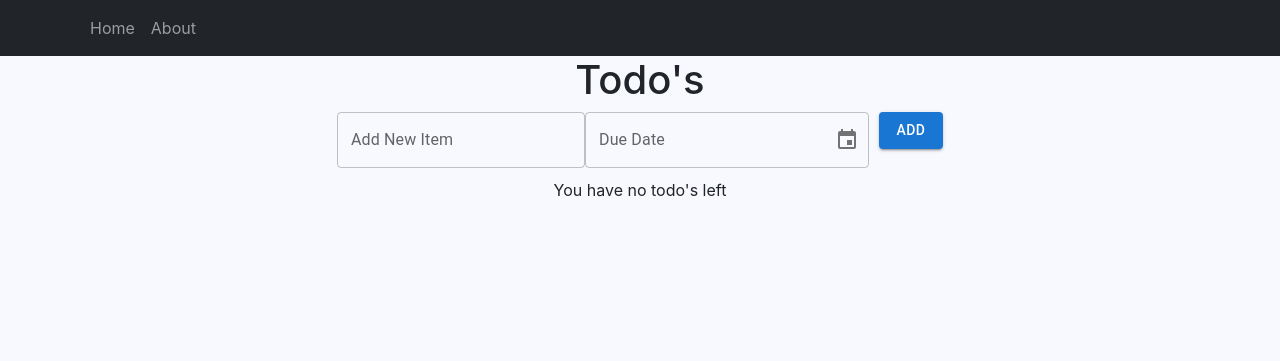
Test: test that App component renders different colors for past due events
The width and height of the screenshot is (1280, 361).
# create normal task
Type "History Test" into the field labelled "Add New Item". click: (461, 140)
box: [337,112,585,168]
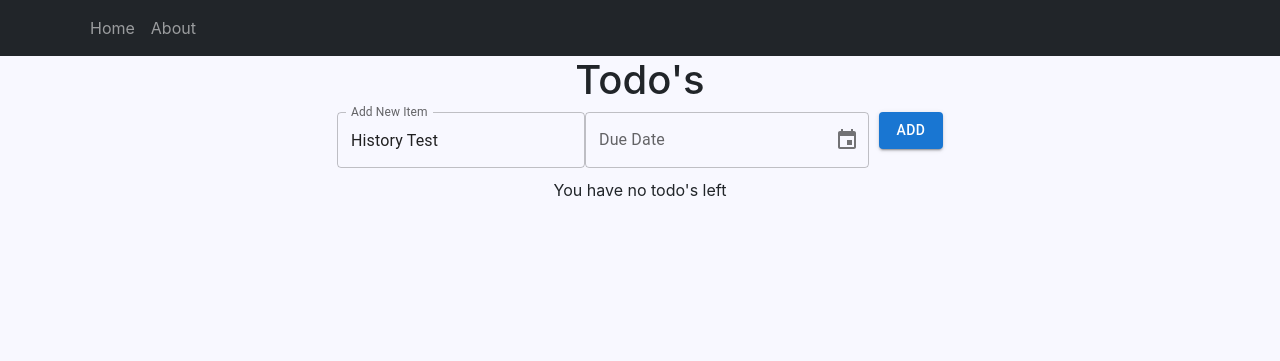
Type "06/30/2025" into the field with placeholder "mm/dd/yyyy". click: (702, 140)
box: [585,112,819,168]
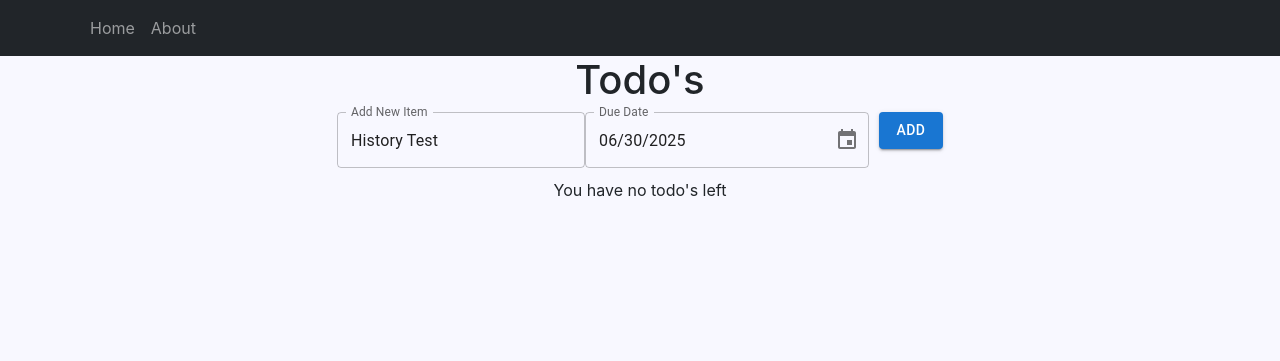
Click the button "Add". click: (911, 130)
box: [879,112,943,148]
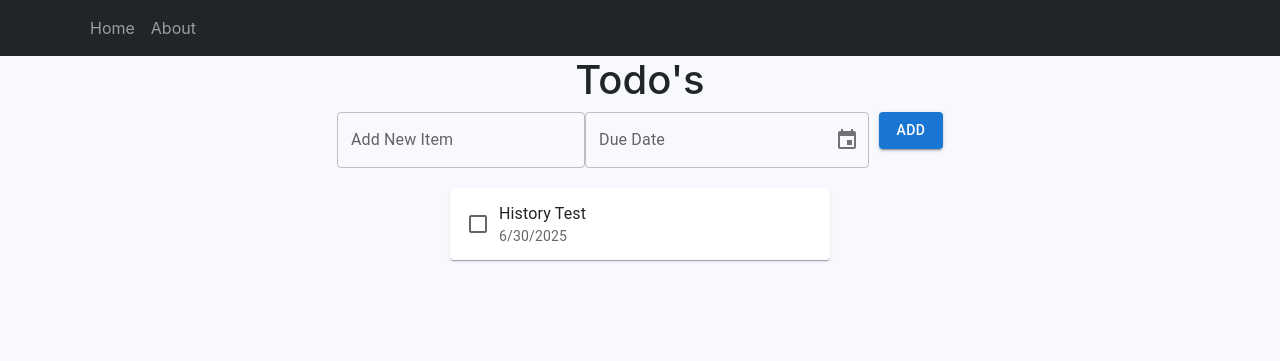
# create overdue task
Type "Science Test" into the field labelled "Add New Item". click: (461, 140)
box: [337,112,585,168]
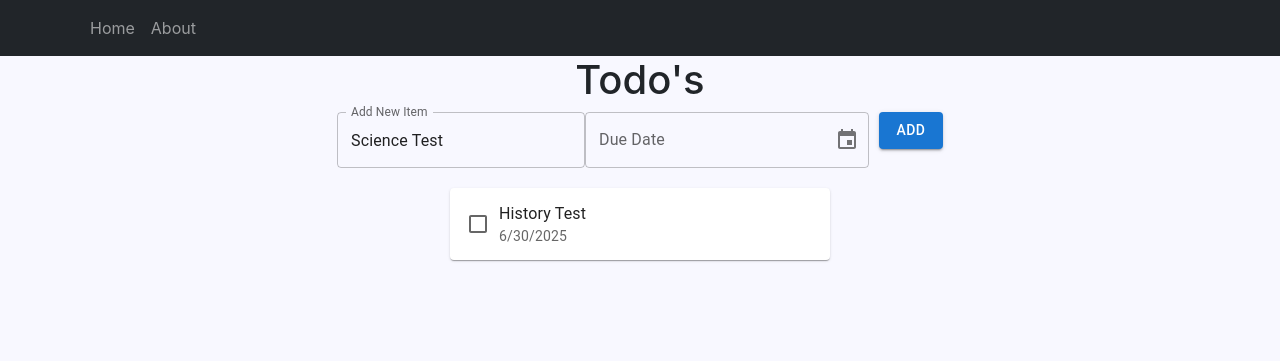
Type "01/01/2023" into the field with placeholder "mm/dd/yyyy". click: (702, 140)
box: [585,112,819,168]
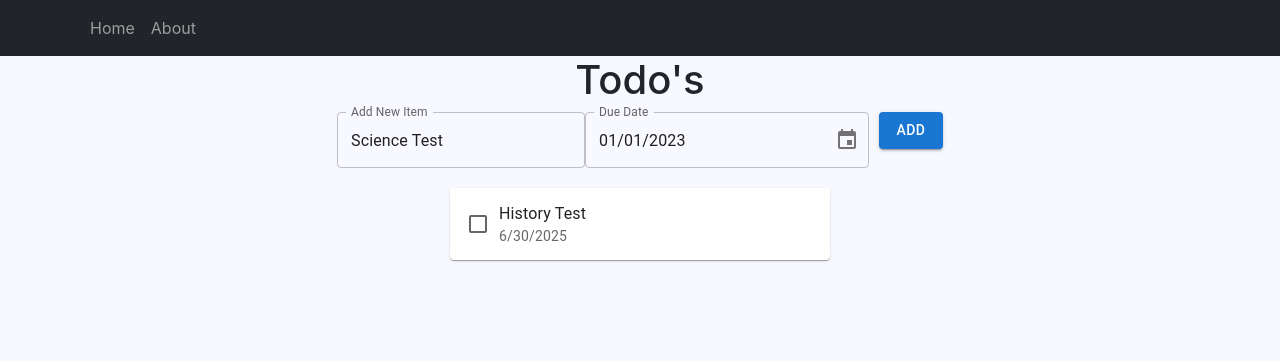
Click the button "Add". click: (911, 130)
box: [879,112,943,148]
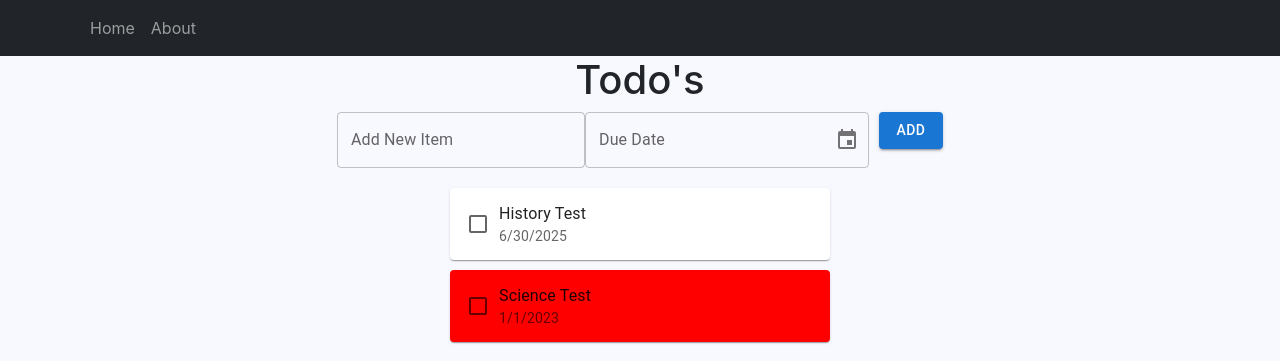
Now the element with test id "History Test" is shown, box [450,188,830,260]
Now the element with test id "Science Test" is shown, box [450,270,830,342]
